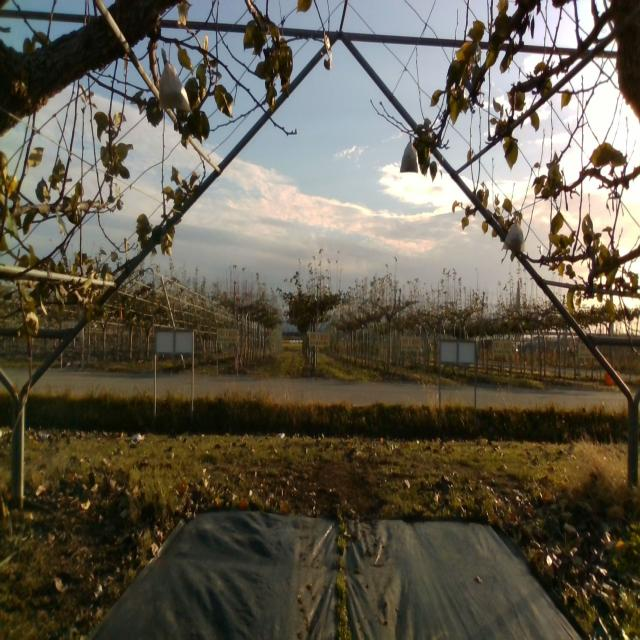pearbags: (156, 49, 191, 114), (502, 217, 526, 256), (400, 133, 420, 173)
